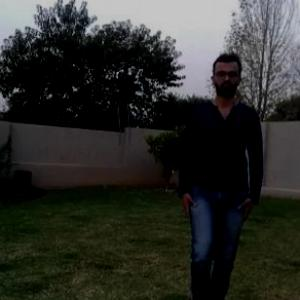follow: (183, 53, 259, 299)
